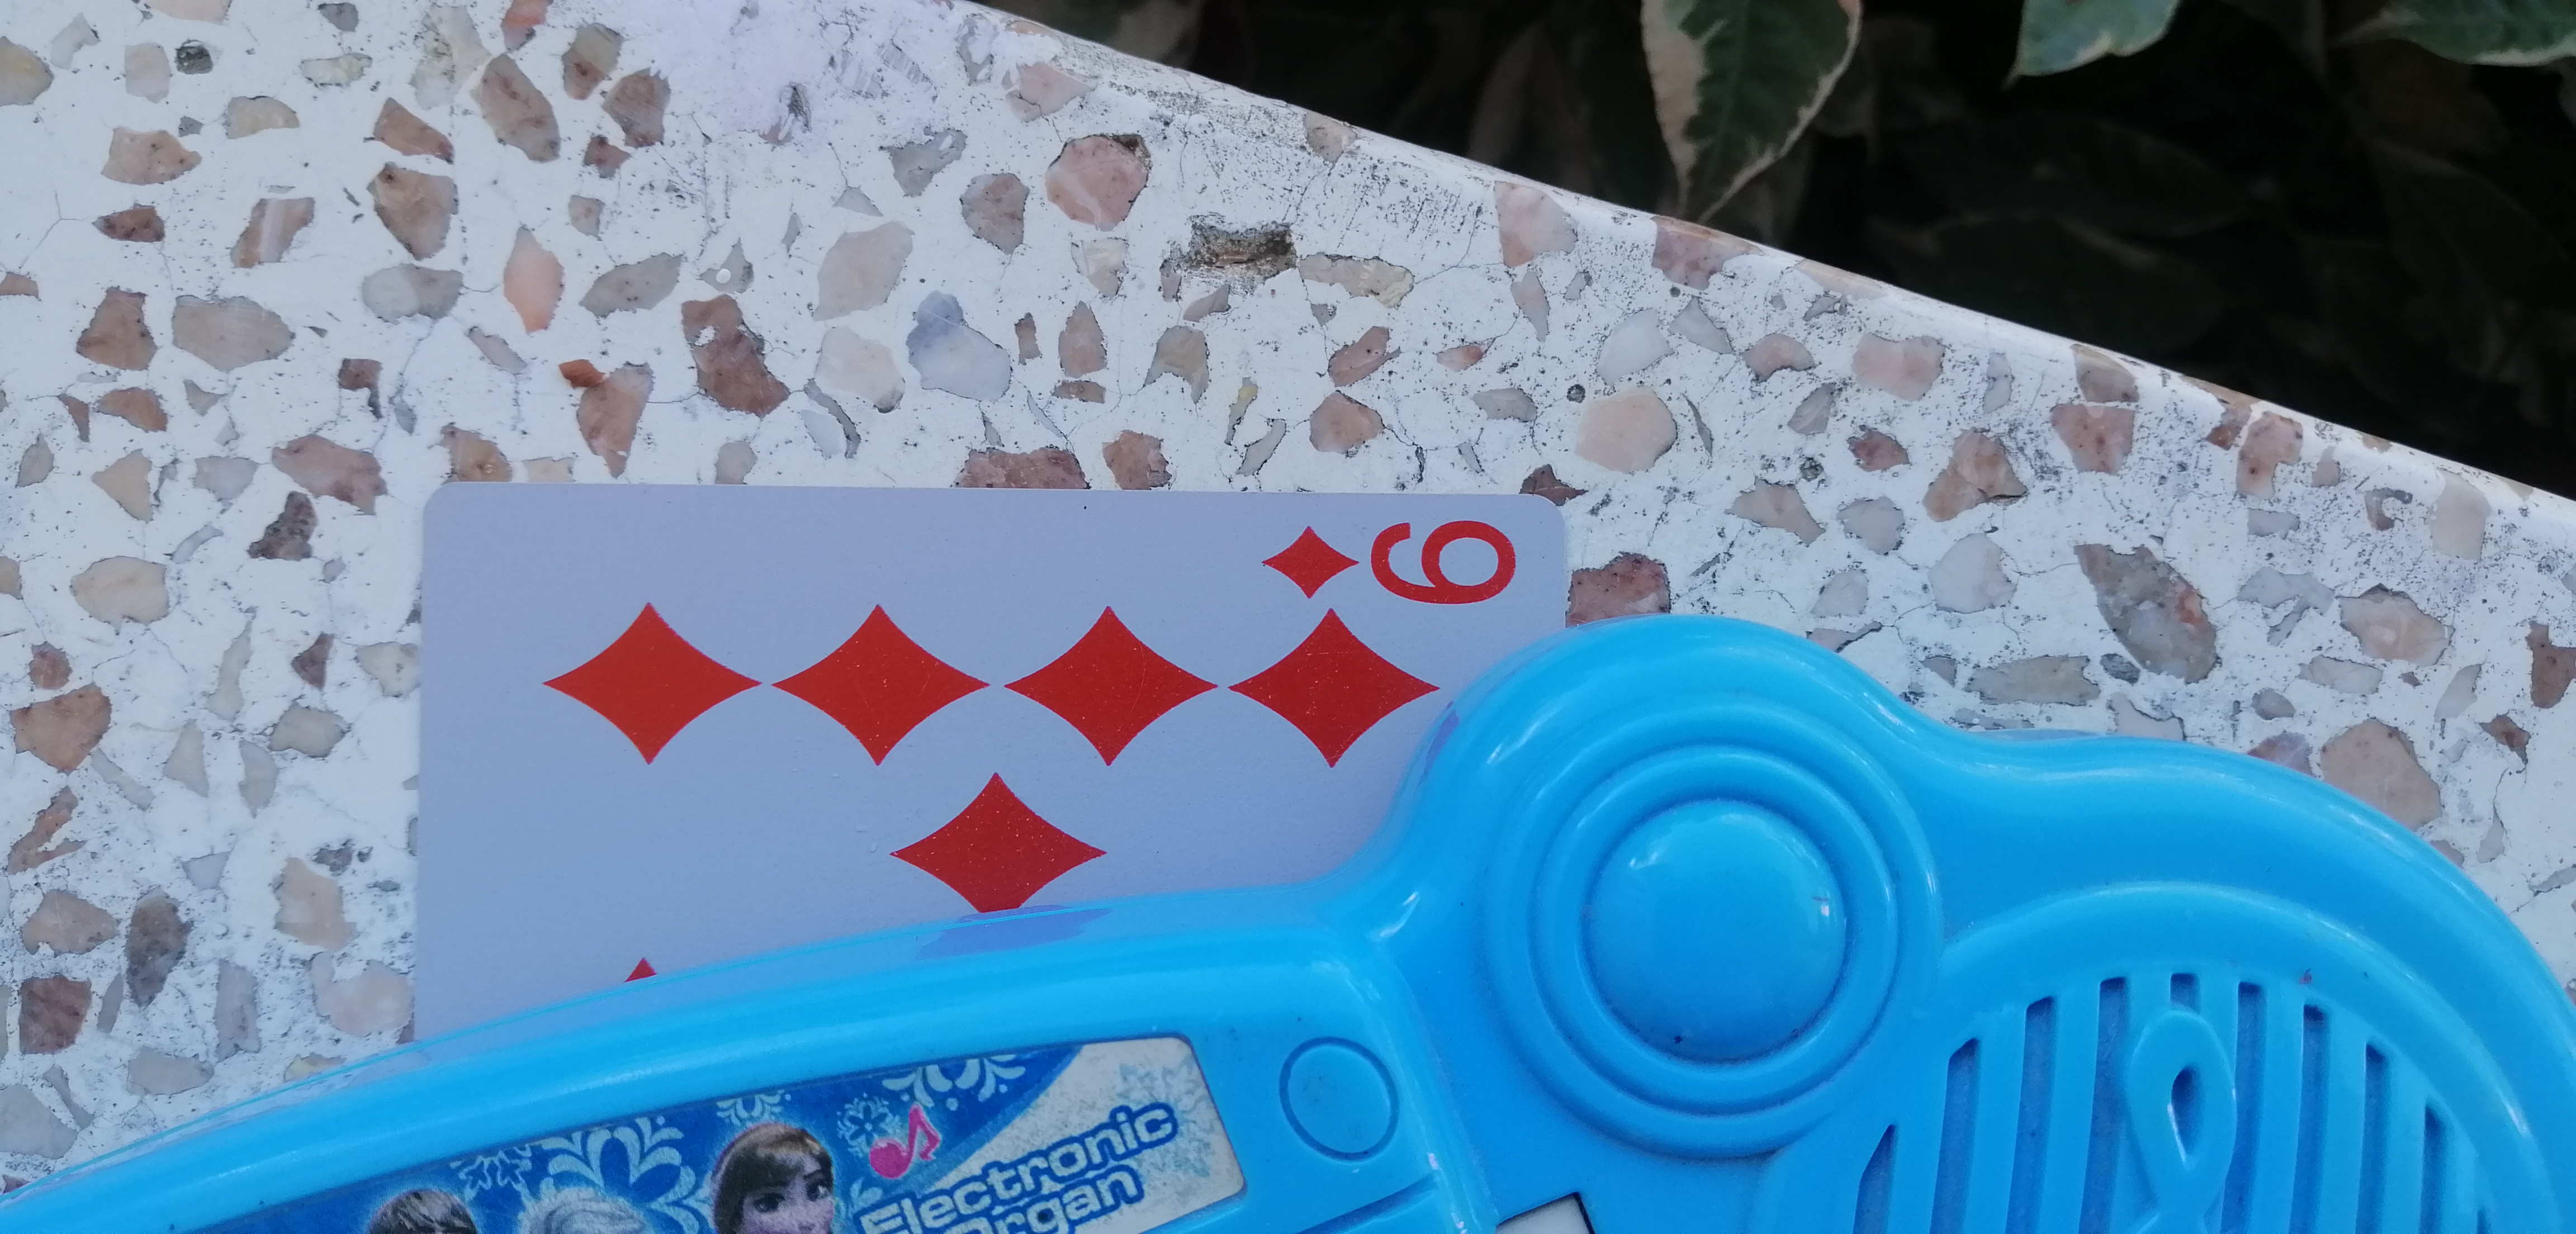nine: (370, 437, 1585, 1093)
